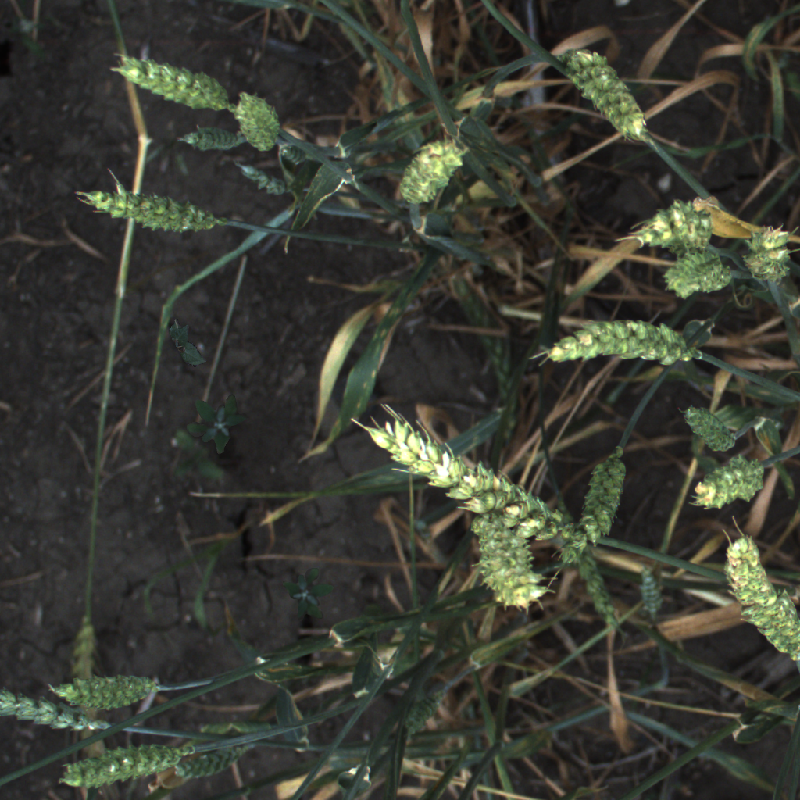spikelet: (365, 407, 567, 554), (727, 536, 798, 667), (560, 42, 648, 140), (471, 506, 551, 612), (539, 314, 691, 367), (110, 55, 238, 117), (78, 182, 221, 233), (569, 442, 636, 550), (569, 539, 633, 639), (61, 745, 180, 790), (398, 131, 464, 205), (656, 243, 738, 299), (625, 198, 709, 250), (1, 696, 114, 733), (737, 221, 797, 289), (692, 454, 761, 512), (53, 672, 161, 706), (169, 741, 254, 781), (233, 87, 283, 152), (683, 403, 736, 452), (500, 499, 559, 541), (234, 157, 291, 197), (633, 562, 668, 625), (70, 619, 102, 687), (175, 125, 242, 151), (405, 692, 442, 728)
weed: (176, 381, 259, 462), (283, 568, 334, 621), (164, 315, 210, 372)
